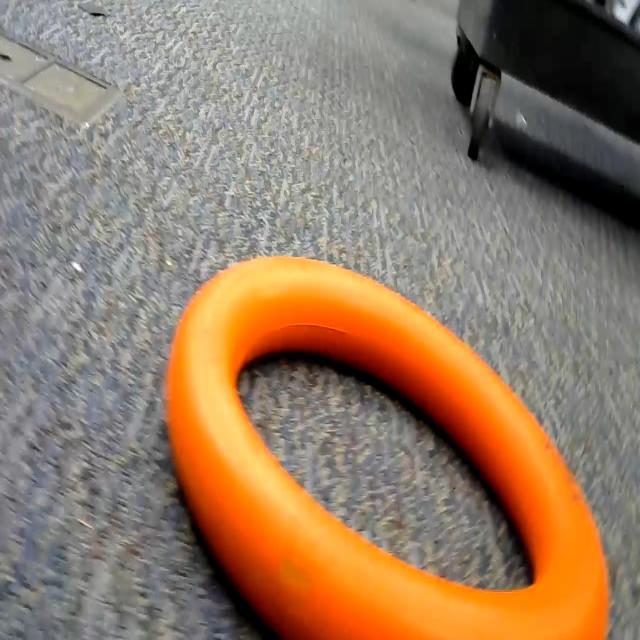note: (161, 250, 640, 640)
